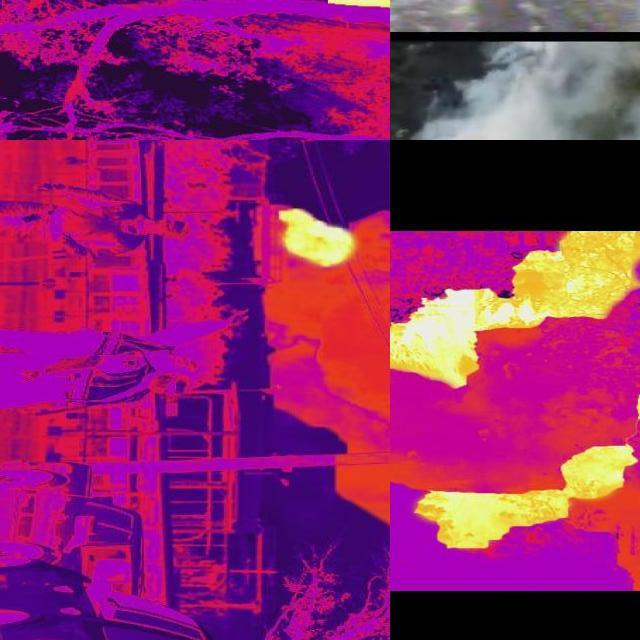fire: (400, 375, 640, 588), (391, 267, 556, 431), (228, 171, 391, 299), (524, 232, 640, 344)
